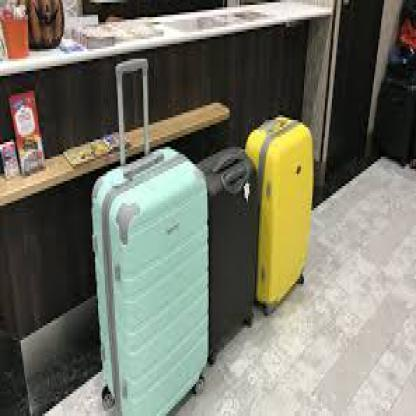maleta: (81, 140, 216, 414), (191, 140, 259, 370), (244, 110, 318, 321)
